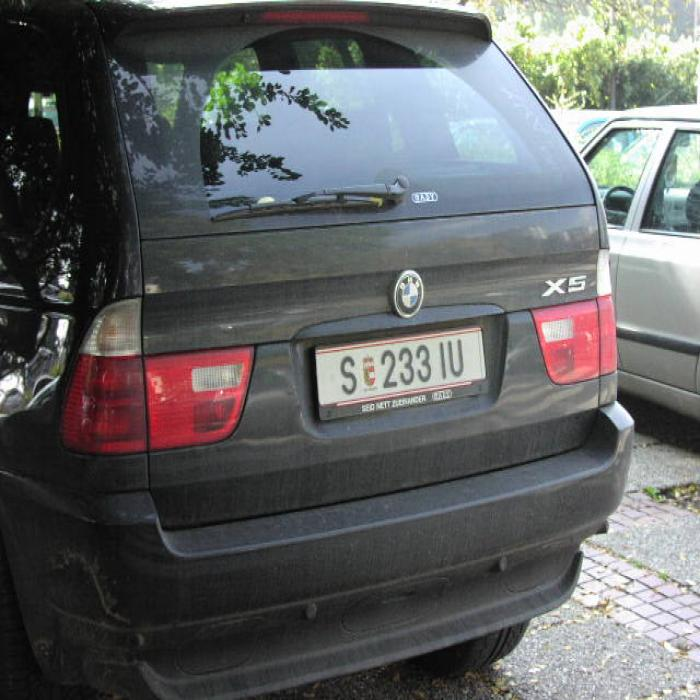number_plate: (320, 330, 482, 408)
